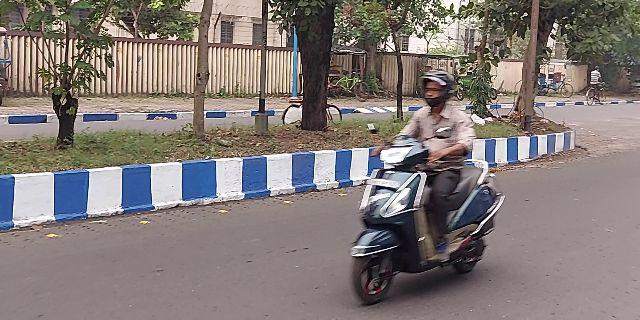Motorbike: (339, 65, 504, 304)
